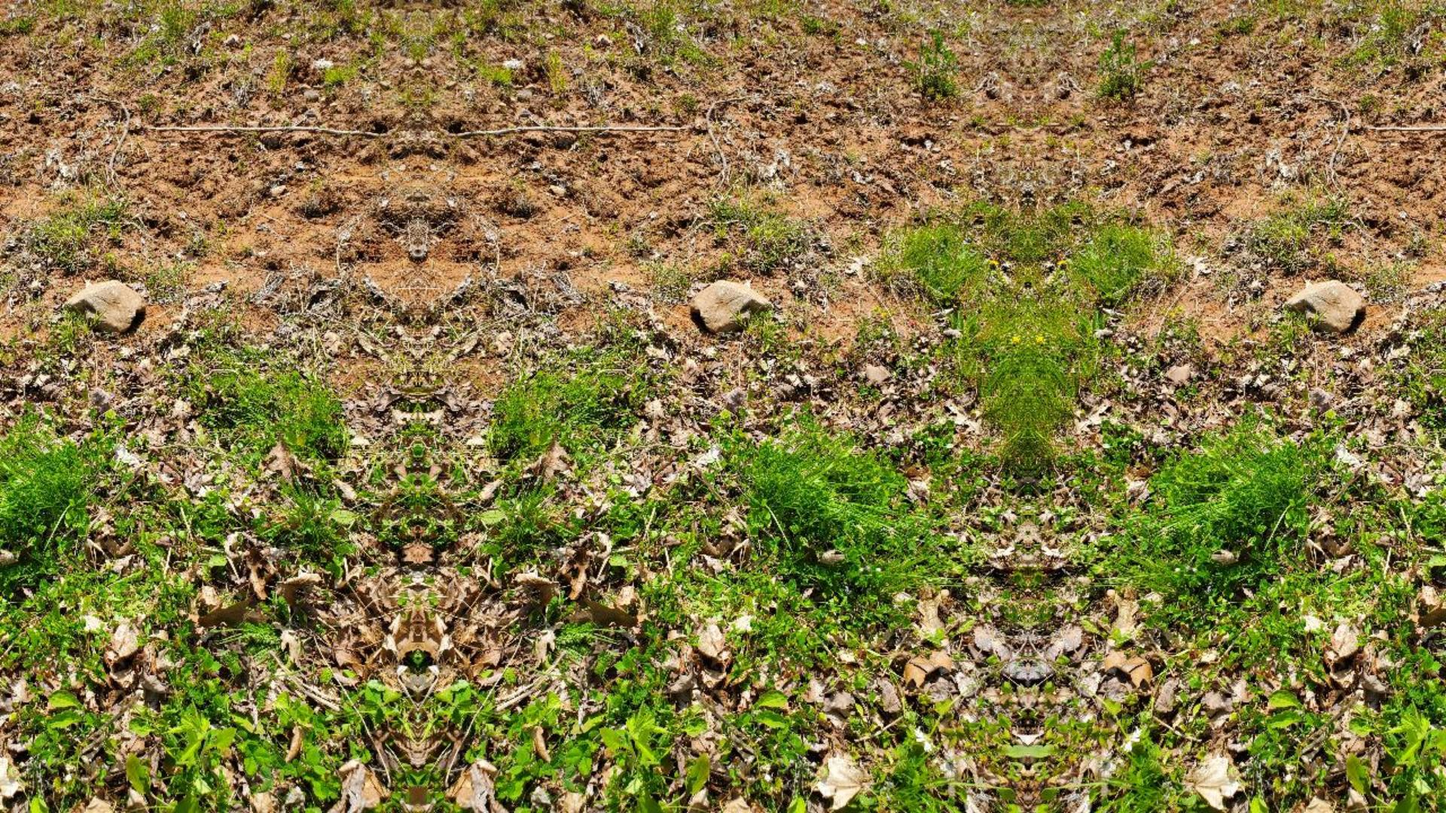rock: (691, 280, 773, 332), (1284, 280, 1365, 332), (64, 280, 143, 332)
